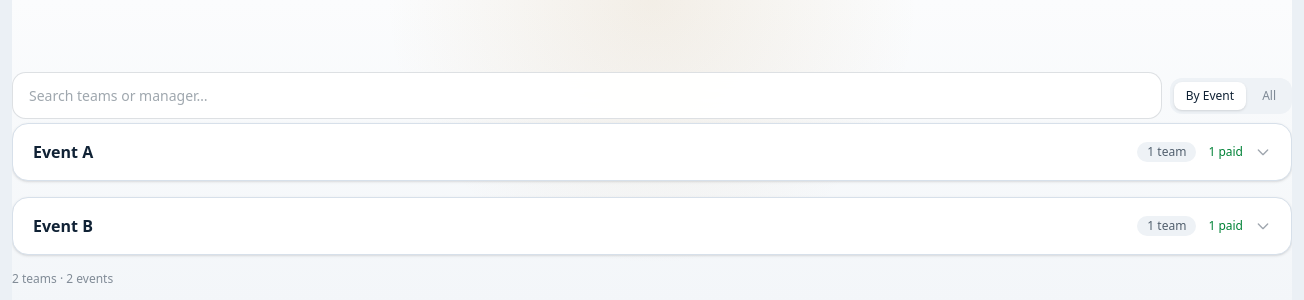
TeamsTab › filters teams by search
The image size is (1304, 300).
Type "Alpha" into the field with placeholder "Search teams or manager…". click: x=587, y=96
box: x1=12 y1=72 x2=1162 y2=119
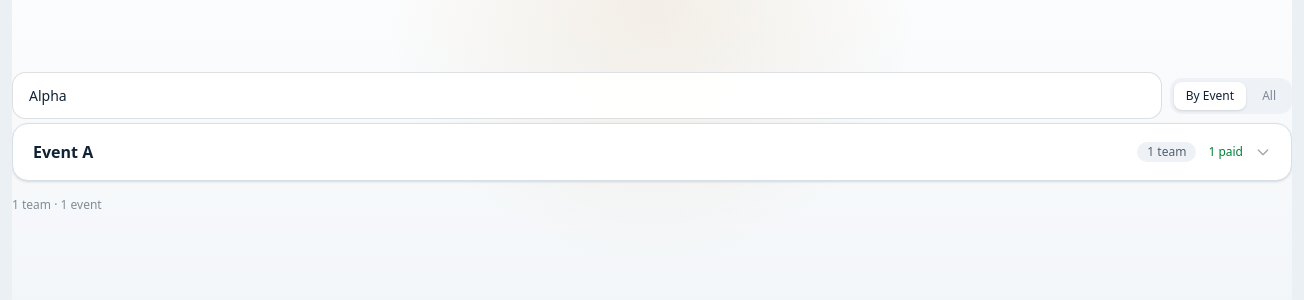
Expected: the text "Event A" is shown, x1=33 y1=140 x2=93 y2=164
Expected: the button "Event B" is gone
